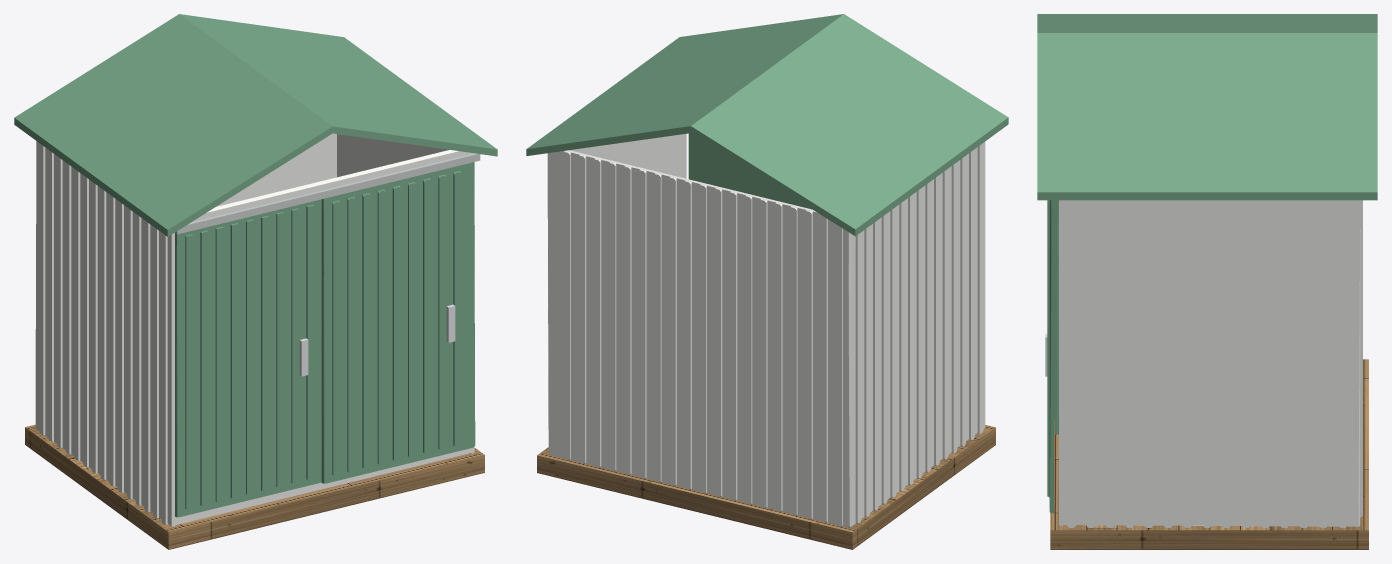
File: shed.glb
The picture shows the model from 3 angles, left to right: view 1: azimuth 30°, elevation 25°; view 2: azimuth 150°, elevation 25°; view 3: azimuth 270°, elevation 25°; orthographic projection. The views are drawn at different scales.
Parts seen in each view (by area): view 1: shed_paint_g, shed_paint_w, shed_pallet, shed_galv, shed_chrome; view 2: shed_paint_w, shed_paint_g, shed_pallet; view 3: shed_paint_w, shed_paint_g, shed_pallet.
Part boxes in pixels (bbox=[...]): shed_paint_g: bbox=[14, 14, 497, 517]; shed_paint_w: bbox=[35, 133, 474, 526]; shed_pallet: bbox=[25, 424, 484, 549]; shed_galv: bbox=[175, 153, 480, 234]; shed_chrome: bbox=[299, 304, 455, 376]; shed_paint_w: bbox=[547, 133, 985, 527]; shed_paint_g: bbox=[526, 14, 1008, 236]; shed_pallet: bbox=[537, 425, 995, 549]; shed_paint_w: bbox=[1059, 200, 1362, 527]; shed_paint_g: bbox=[1037, 14, 1377, 513]; shed_pallet: bbox=[1050, 359, 1368, 549].
Bounding box in the file's own units: 1.96 × 2.21 × 1.58.
Materials: 5 (1 with a texture image).
